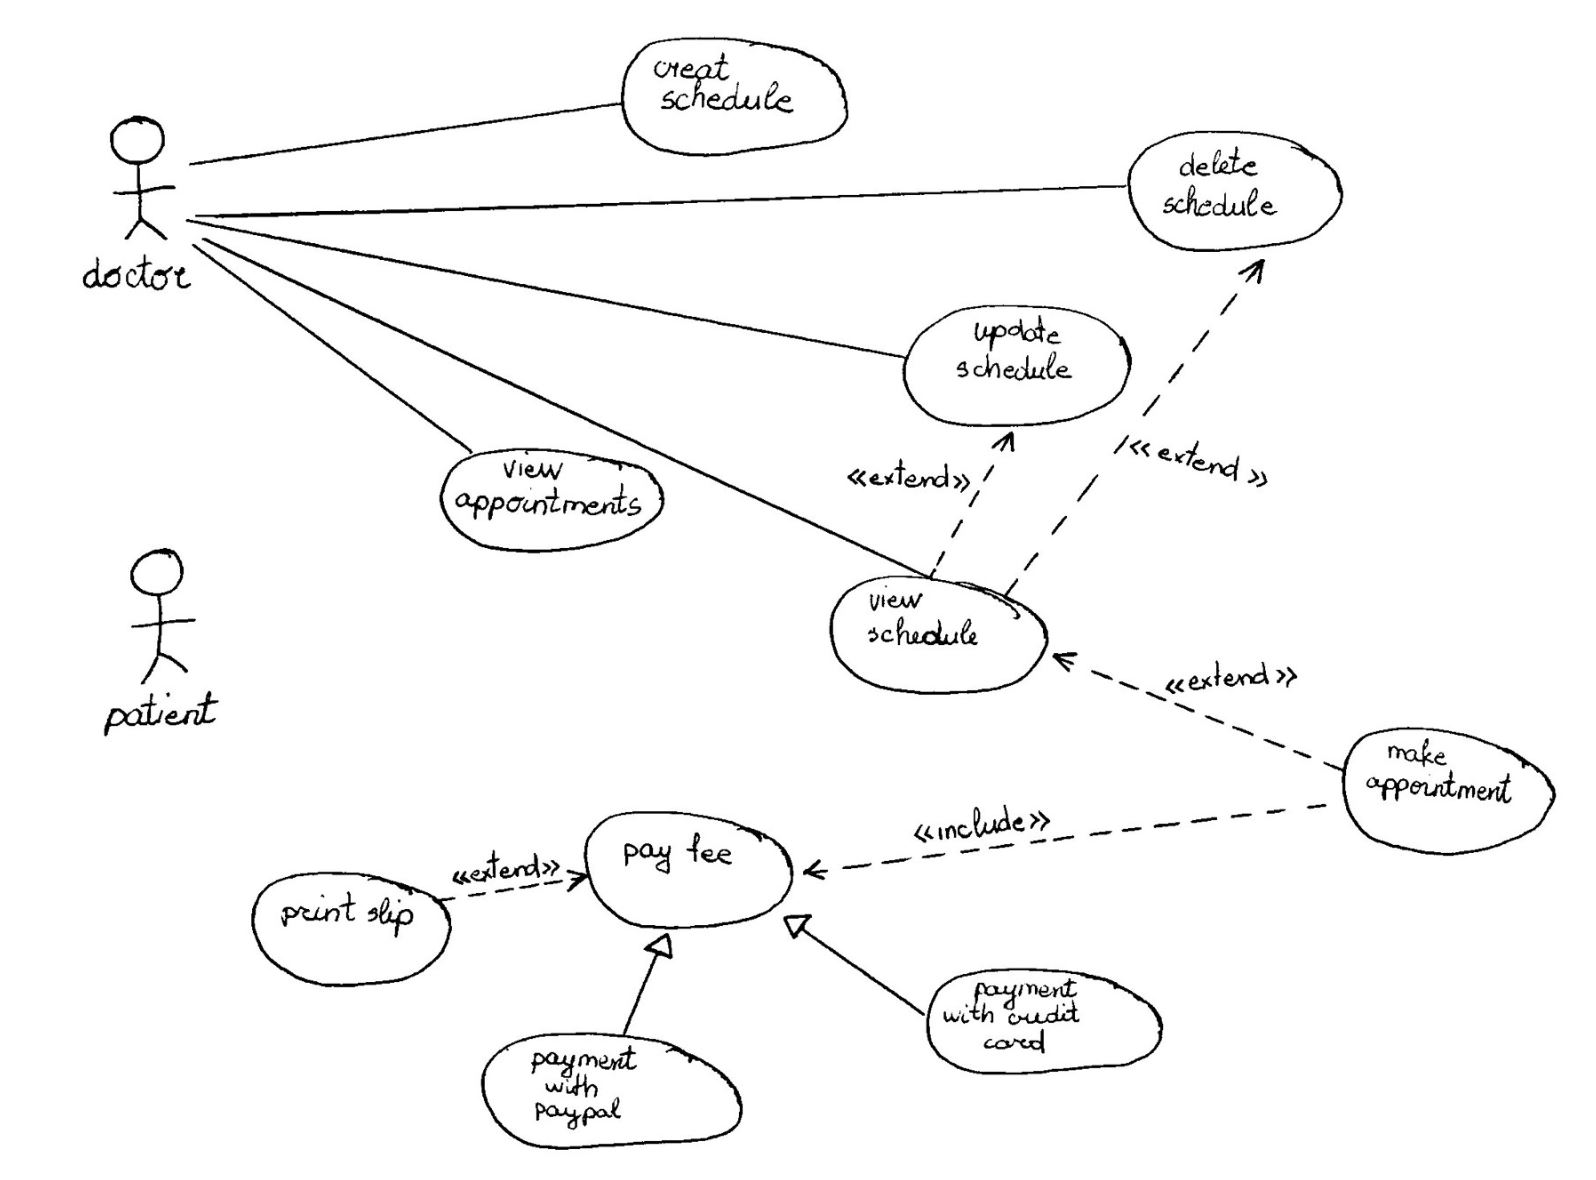actor: (95, 108, 183, 247), (120, 547, 199, 689)
association: (198, 236, 922, 576), (183, 214, 905, 357), (1007, 260, 1266, 592), (192, 240, 470, 447), (195, 176, 1128, 224), (803, 799, 1335, 884), (1052, 648, 1343, 772), (188, 99, 622, 167), (927, 426, 1019, 576), (449, 866, 586, 902)
generalization: (779, 914, 931, 1019), (613, 928, 672, 1030)
text: (936, 977, 1107, 1056), (450, 455, 649, 522), (651, 43, 805, 128), (1361, 740, 1520, 814), (517, 1042, 632, 1134), (962, 319, 1090, 395), (1162, 147, 1287, 226), (855, 588, 991, 657), (1128, 433, 1276, 495), (273, 885, 418, 946), (92, 687, 226, 749), (64, 249, 203, 301), (620, 826, 734, 878), (1155, 662, 1301, 698), (905, 804, 1063, 837), (437, 848, 559, 887), (843, 464, 975, 500)
use_case: (480, 1031, 743, 1151), (901, 302, 1133, 430), (620, 32, 848, 160), (1126, 128, 1344, 257), (1341, 726, 1558, 855), (929, 963, 1166, 1077), (828, 573, 1046, 695), (581, 812, 794, 930), (249, 870, 452, 989), (442, 445, 665, 552)
